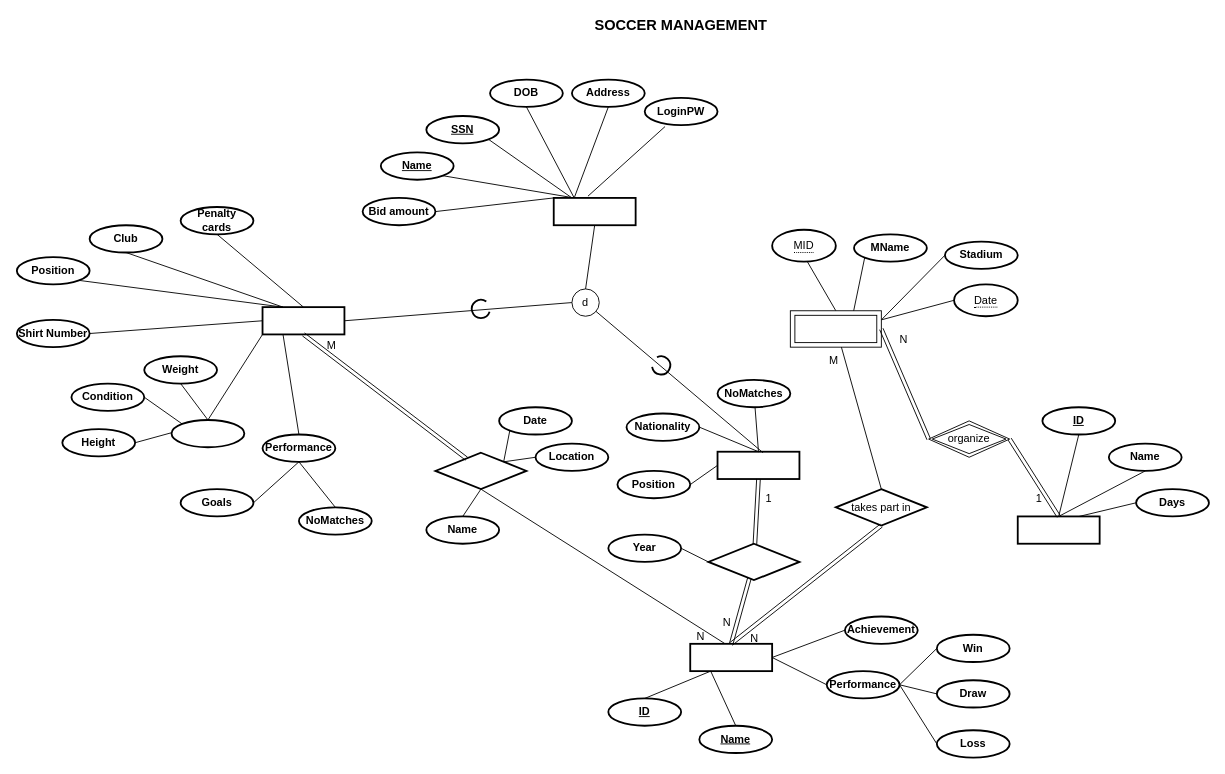
This 1225x774 diagram has some shape labels left out. Here are the shapes that lost their labels. From the top down, the centre of each, then its label:
At (594,211): "USER".
At (303,320): "PLAYER".
At (835,328): "MATCH".
At (207,433): "Traning".
At (480,470): "gathers".
At (758,464): "COACH TEAM".
At (1058,529): "LEAGUE".
At (753,561): "manage".
At (731,657): "TEAM".
